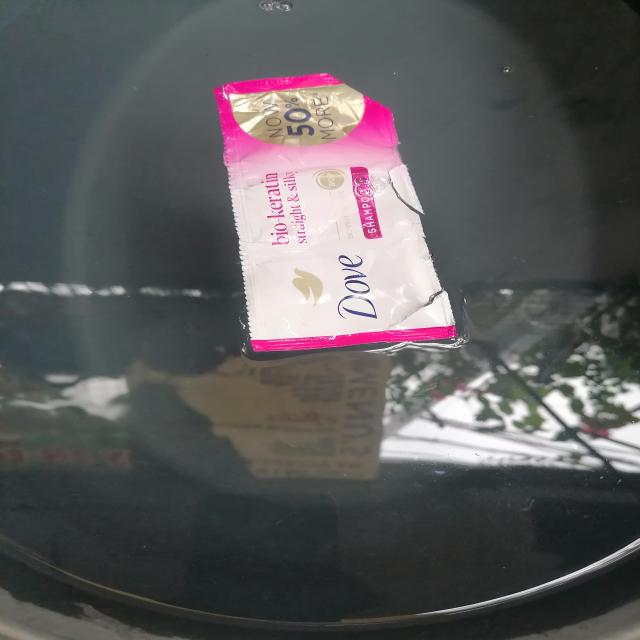Plastic Wrapper: (184, 55, 499, 372)
